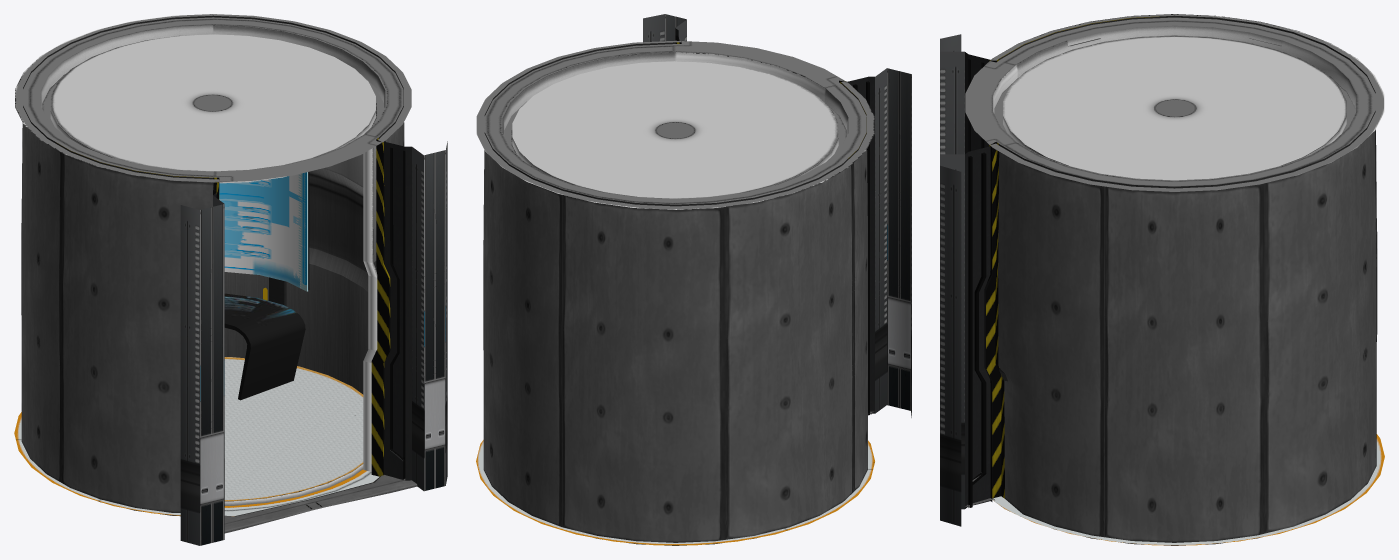
File: EndDoor_Animated.fbx
3 renders of one model, left to right at view 1: azimuth 30°, elevation 25°; view 2: azimuth 150°, elevation 25°; view 3: azimuth 270°, elevation 25°, orthographic. The views are drawn at different scales.
Parts seen in each view (by area): view 1: EndDoor_Frame1, polySurface44, EndDoor_ScreenFront, EndDoor_Table; view 2: EndDoor_Frame1; view 3: EndDoor_Frame1.
Part boxes in pixels (x1=…): EndDoor_Frame1: x1=14, y1=14, x2=447, y2=545; polySurface44: x1=180, y1=146, x2=377, y2=516; EndDoor_ScreenFront: x1=219, y1=172, x2=308, y2=291; EndDoor_Table: x1=224, y1=293, x2=305, y2=400; EndDoor_Frame1: x1=476, y1=14, x2=911, y2=545; EndDoor_Frame1: x1=940, y1=14, x2=1384, y2=545.
Size of the model in its own units: 485 by 460 by 512.
